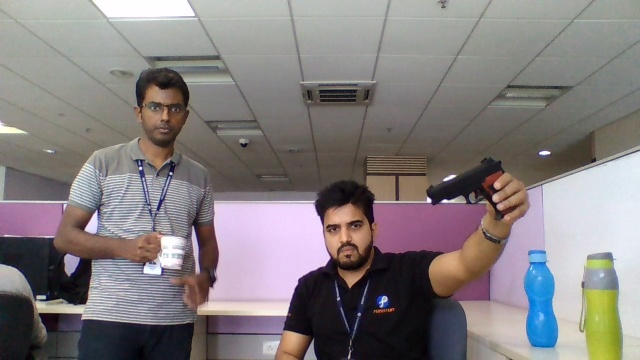gun: (424, 155, 496, 215)
